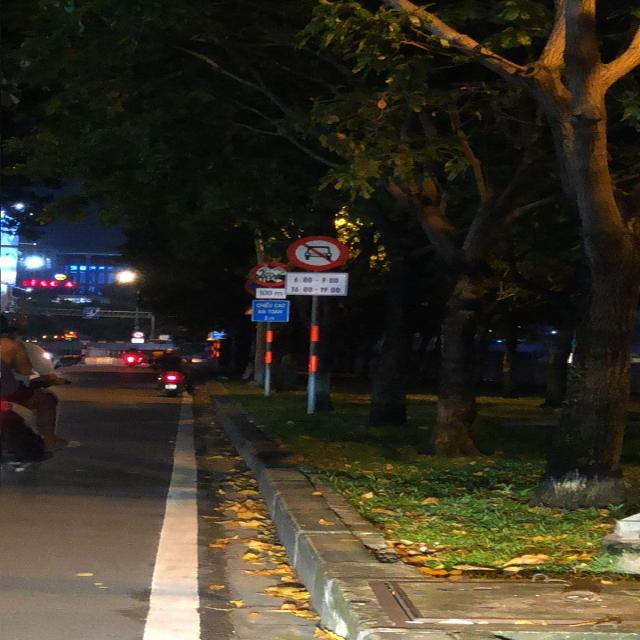Bien bao cam xe oto: (284, 234, 350, 272)
